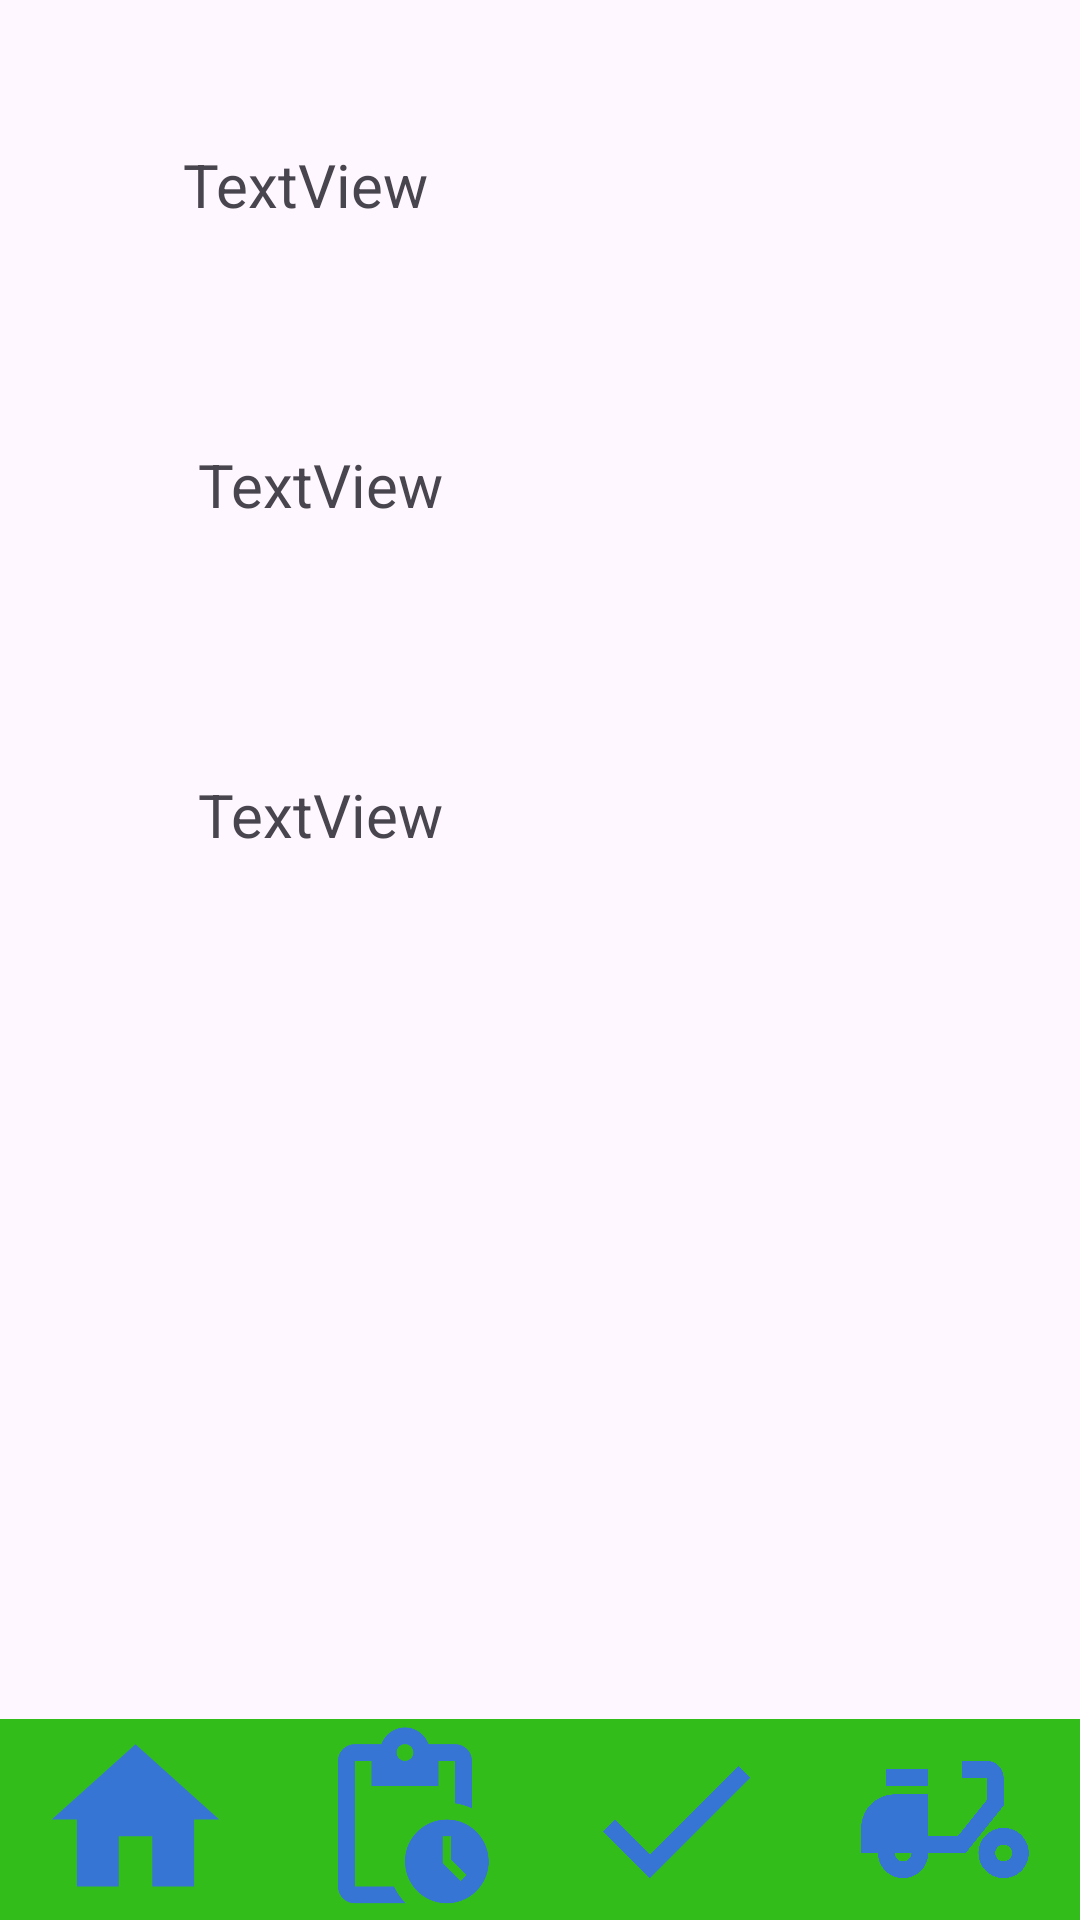

Named icons in this screenshot (1080 x 1920) and their bounding boxes, region(x1, y1, x2, y2):
delivered: region(861, 1761, 1029, 1878)
done: region(603, 1766, 750, 1878)
home: region(52, 1744, 219, 1887)
pending: region(338, 1727, 489, 1904)
